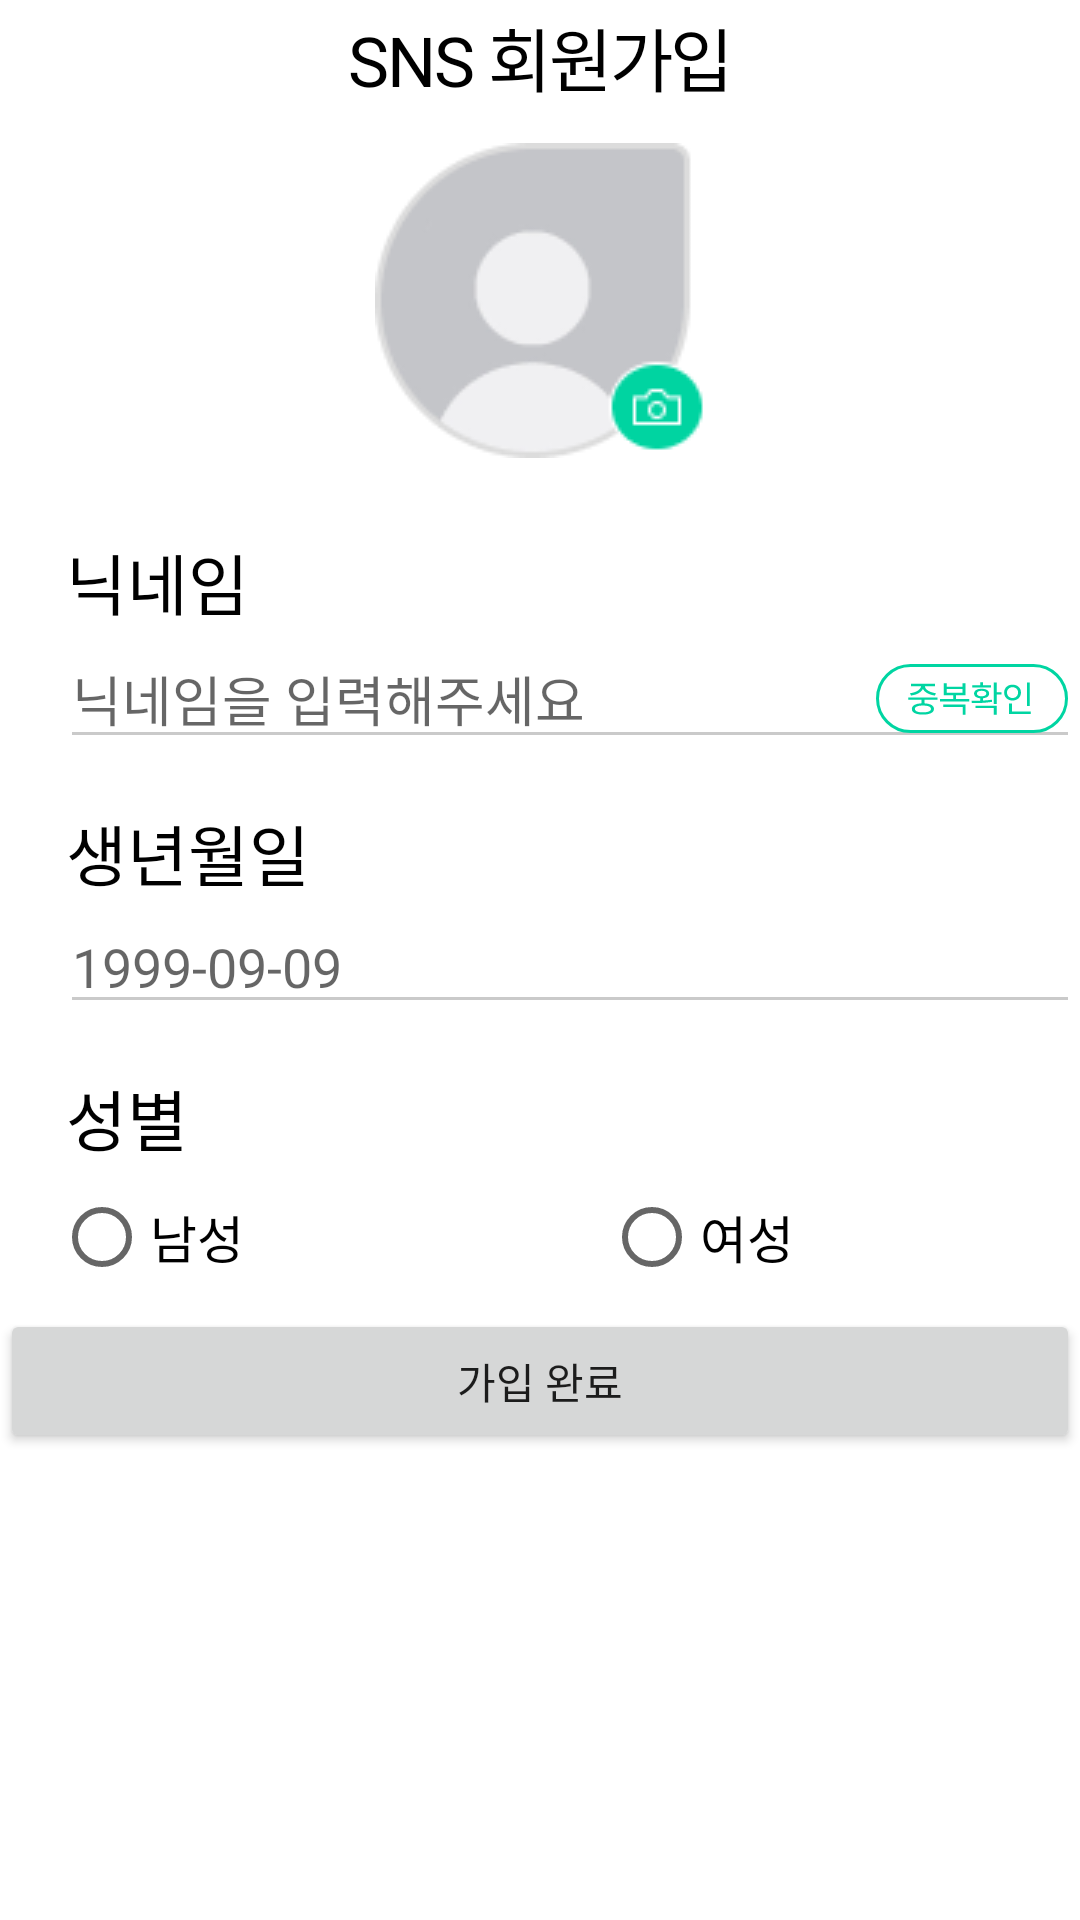

Point at icon controls on the screen. Image size 1080 × 1920, points as [x,y].
profile register: [539,300]
